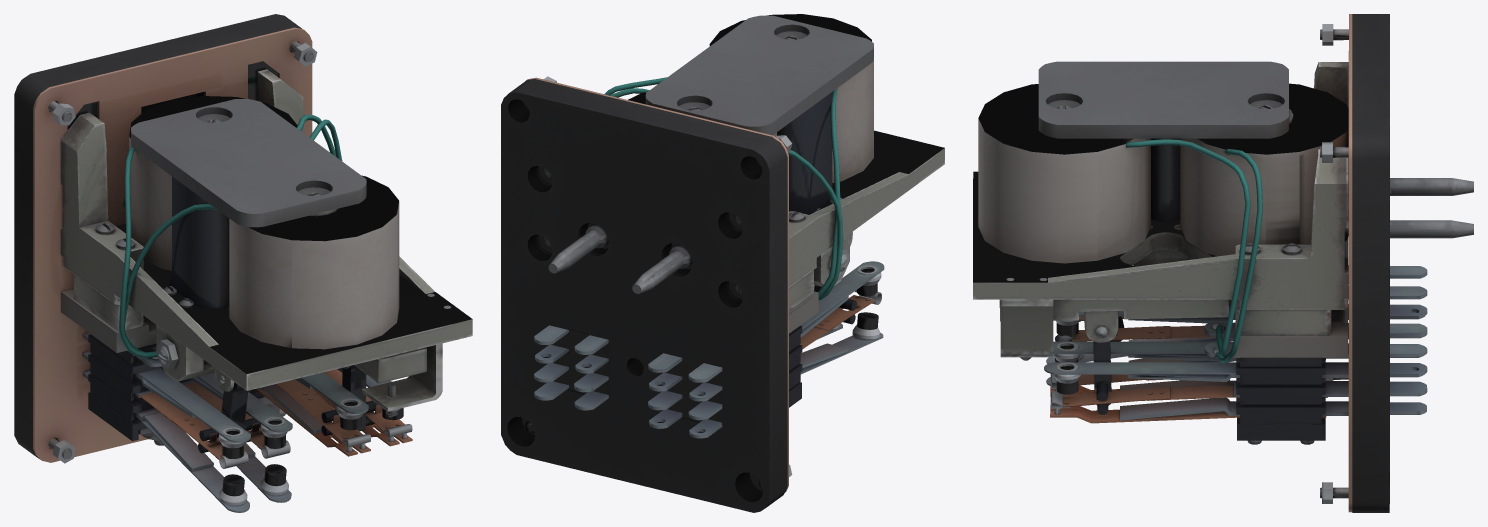
File: kmsh_A4_V-G.fbx
The picture shows the model from 3 angles, left to right: view 1: azimuth 30°, elevation 25°; view 2: azimuth 150°, elevation 25°; view 3: azimuth 270°, elevation 25°; orthographic projection. The views are drawn at different scales.
Parts seen in each view (by area): view 1: kmsh, kont_L, kont_R, mandula_R, pimp_L, pimp_R; view 2: kmsh, kont_L; view 3: kmsh, mandula_R, kont_R, kont_L, pimp_R.
Part boxes in pixels (bbox=[...]): kmsh: bbox=[14, 14, 472, 512]; kont_L: bbox=[136, 382, 290, 468]; kont_R: bbox=[276, 369, 412, 447]; mandula_R: bbox=[342, 347, 426, 383]; pimp_L: bbox=[198, 382, 260, 453]; pimp_R: bbox=[321, 365, 382, 435]; kmsh: bbox=[501, 14, 944, 512]; kont_L: bbox=[799, 285, 881, 349]; kmsh: bbox=[973, 14, 1473, 512]; mandula_R: bbox=[999, 299, 1231, 342]; kont_R: bbox=[1050, 374, 1327, 408]; kont_L: bbox=[1059, 316, 1224, 341]; pimp_R: bbox=[1093, 341, 1111, 414].
Bounding box in the file's own units: 0.0696 × 0.0898 × 0.1079.
